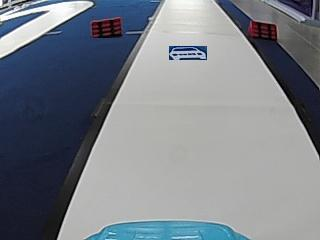bomb: (247, 19, 278, 39)
